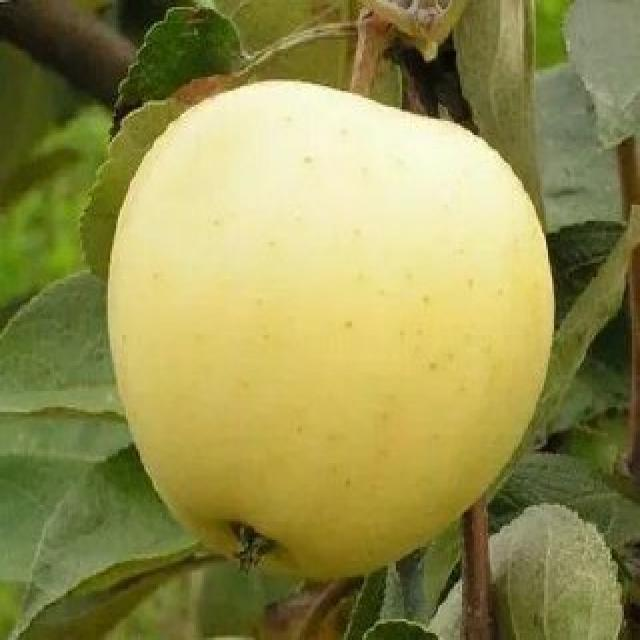Fresh Apple: (98, 86, 548, 554)
